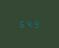four: (26, 20, 32, 28)
nine: (33, 20, 39, 28)
six: (18, 20, 24, 28)
